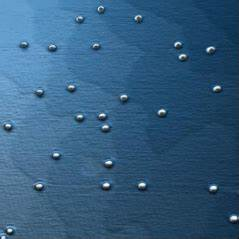rivet: (226, 213, 239, 226), (34, 181, 47, 194), (136, 180, 149, 193), (204, 46, 216, 58), (102, 160, 115, 171), (133, 15, 145, 26), (156, 108, 168, 119), (97, 111, 108, 123), (51, 150, 63, 161), (99, 182, 112, 192), (207, 184, 218, 195), (49, 43, 59, 54), (173, 41, 184, 51), (211, 85, 222, 95), (101, 124, 112, 134), (66, 84, 77, 94), (73, 16, 85, 25), (96, 6, 106, 16), (119, 94, 129, 104), (75, 114, 85, 124), (19, 41, 30, 50), (35, 88, 44, 99), (6, 226, 15, 237), (91, 43, 101, 52), (178, 54, 188, 63), (5, 121, 13, 132)
